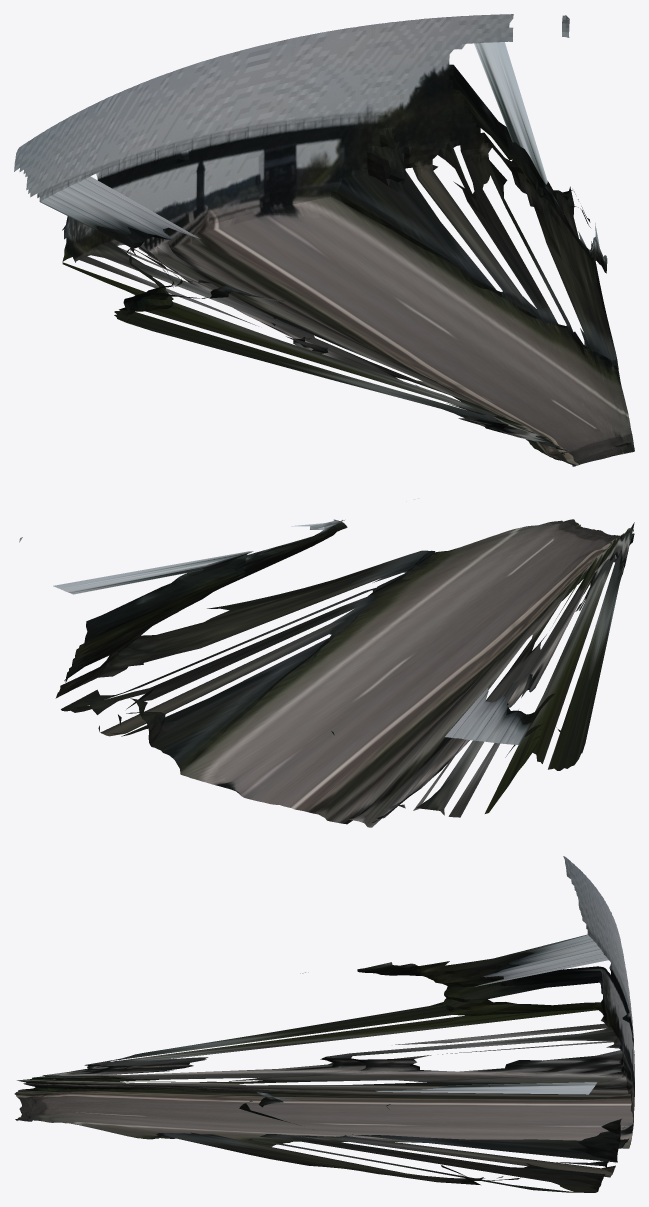
The picture shows the model from 3 angles, top to bottom: view 1: azimuth 30°, elevation 25°; view 2: azimuth 150°, elevation 25°; view 3: azimuth 270°, elevation 25°; orthographic projection. The views are drawn at different scales.
Parts seen in each view (by area): view 1: defaultobject; view 2: defaultobject; view 3: defaultobject.
Part boxes in pixels (x1,y1,x2,y2): defaultobject: (14,14,634,466); defaultobject: (19,519,634,827); defaultobject: (14,856,634,1192).
Bounding box in the file's own units: 40.72 × 12.9 × 44.76.
Materials: 1 (1 with a texture image).
